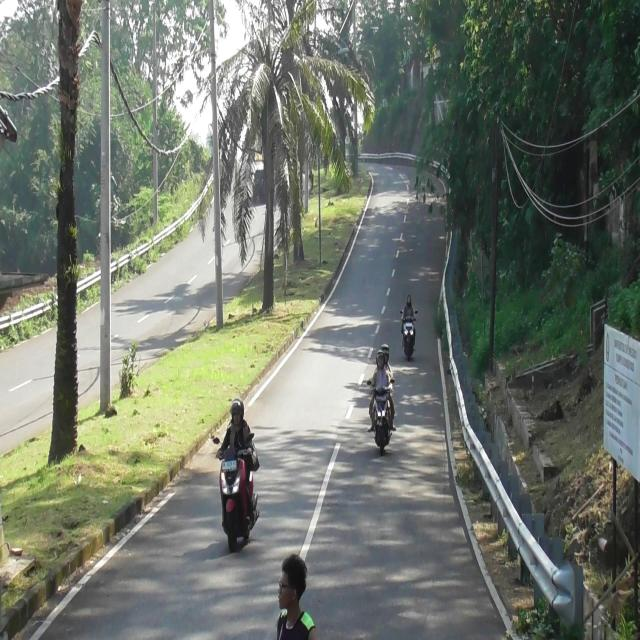motorcycle: (217, 443, 259, 544), (374, 382, 390, 449), (400, 312, 418, 360)
person: (216, 399, 257, 469), (369, 343, 398, 432), (372, 354, 392, 432), (403, 297, 417, 326)
rider_region: (214, 394, 258, 551), (366, 344, 398, 460), (399, 296, 418, 361)
